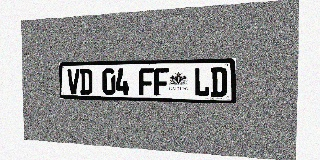0: (102, 69, 115, 95)
4: (116, 68, 129, 95)
D: (210, 67, 227, 97), (80, 69, 92, 94)
F: (154, 68, 169, 96), (139, 68, 153, 96)
L: (194, 67, 210, 97)
V: (67, 69, 80, 94)
